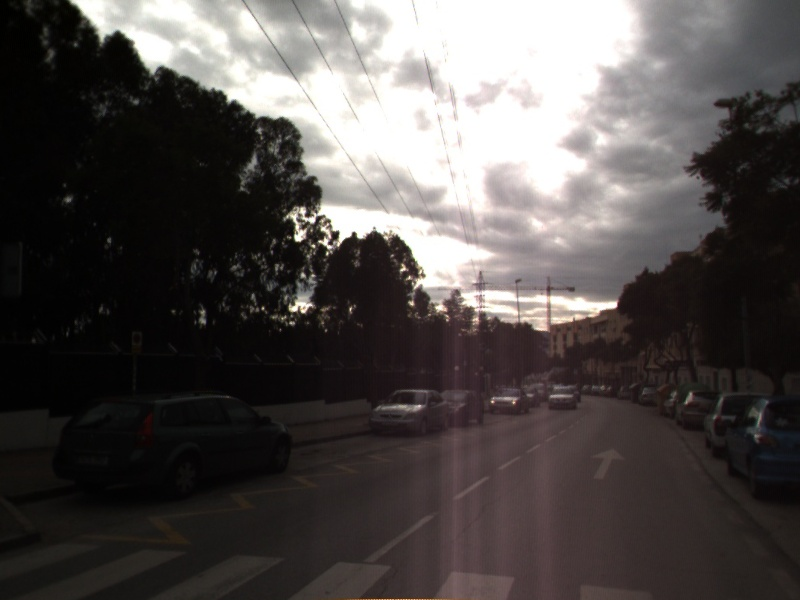STRAIGHT: (588, 446, 628, 481)
